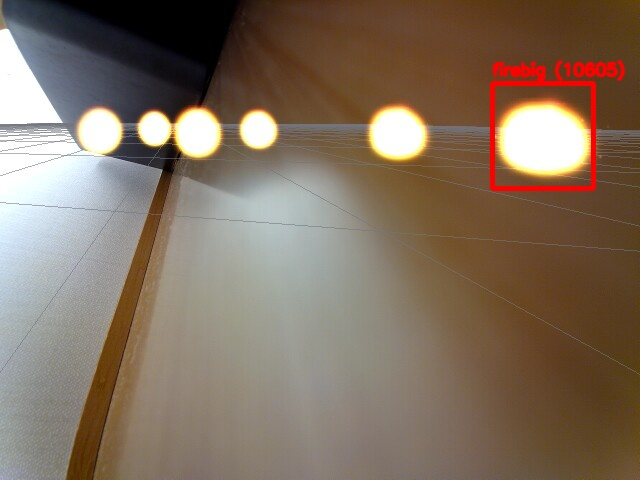firebig: (492, 83, 593, 188)
